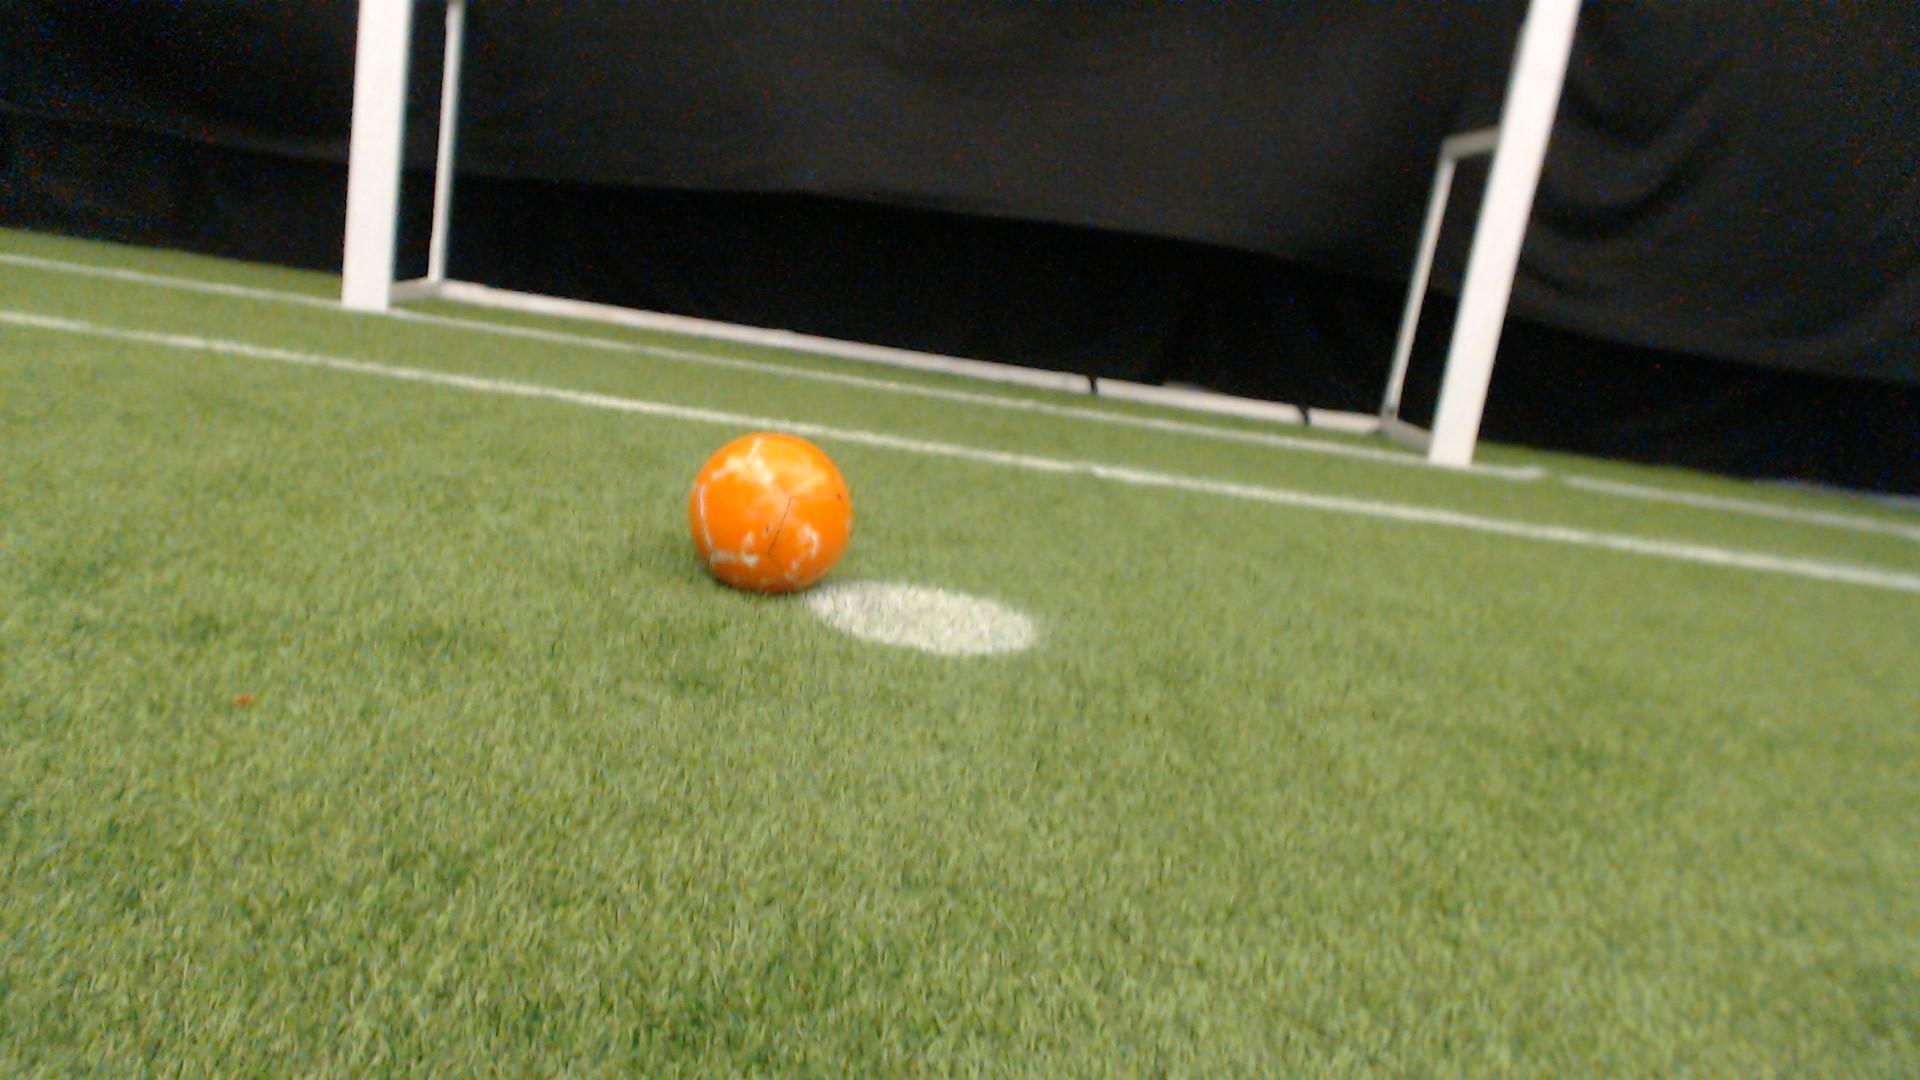bola: (657, 400, 881, 624)
